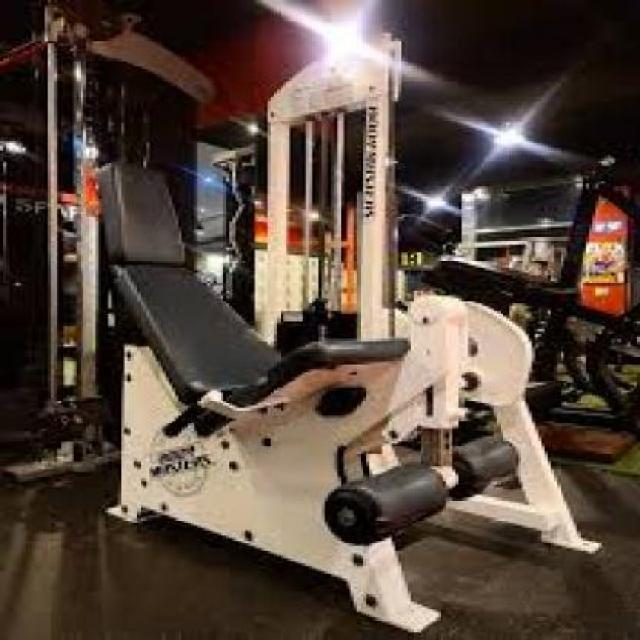leg extension: (72, 27, 603, 636)
